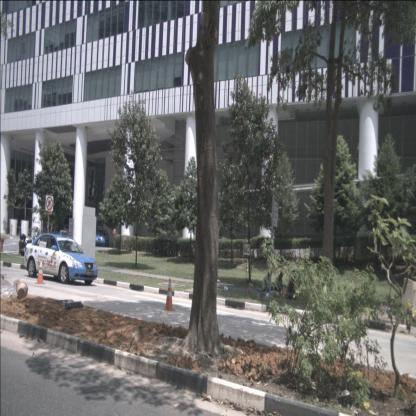human-pedestrian-adult: (113, 226, 117, 249)
movable_object-barrier: (402, 278, 416, 315)
movable_object-trafficcone: (163, 278, 175, 311), (35, 259, 46, 284), (247, 286, 252, 298)
vehicle-car: (23, 233, 98, 285), (95, 228, 109, 247)
vehicle-motorcycle: (19, 233, 34, 256)
